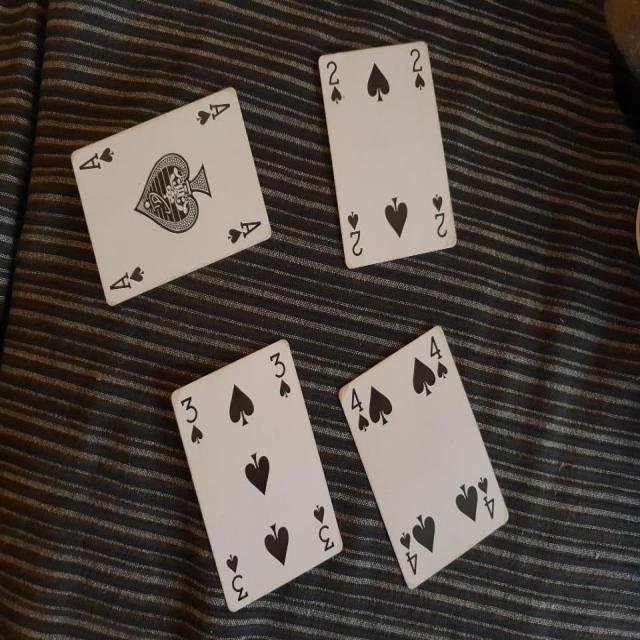2 Spades: (307, 34, 463, 274)
3 Spades: (165, 328, 345, 640)
4 Spades: (331, 309, 520, 640)
A Spades: (66, 84, 274, 310)
